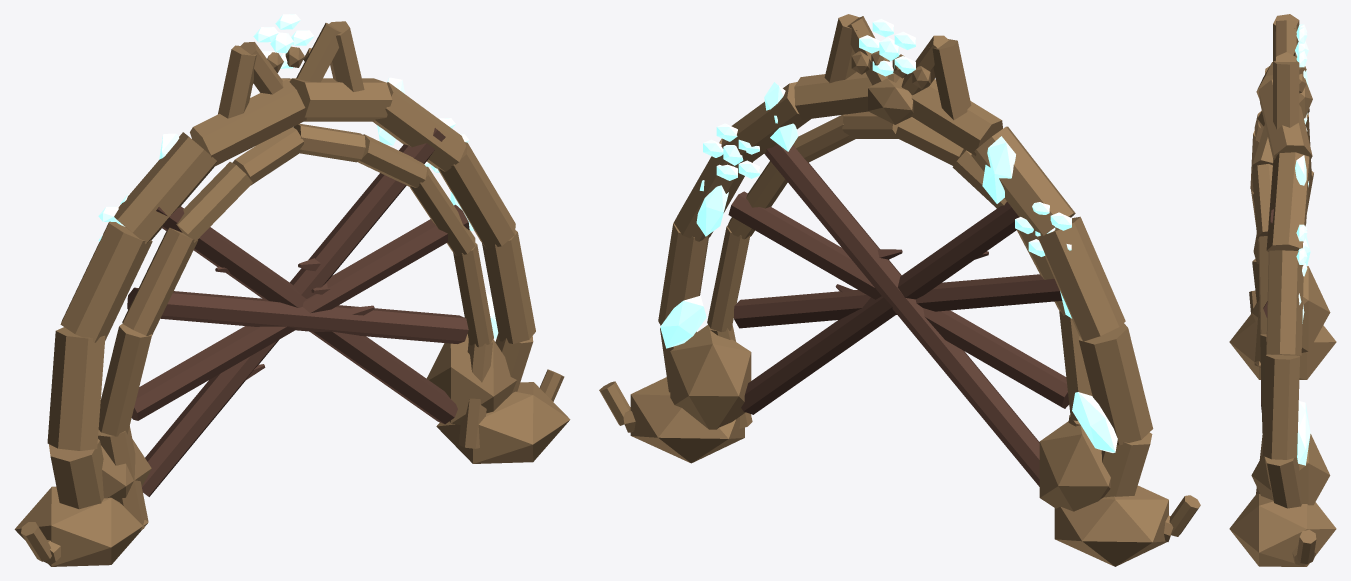
Rendered from forest_trial_gate.glb.
3 views of the same model, side by side, from view 1: azimuth 30°, elevation 25°; view 2: azimuth 150°, elevation 25°; view 3: azimuth 270°, elevation 25° (orthographic). The views are drawn at different scales.
Parts seen in each view (by area): view 1: Gate_Arch, Gate_Shutters, Gate_Bloom; view 2: Gate_Arch, Gate_Shutters, Gate_Bloom; view 3: Gate_Arch, Gate_Bloom.
Boxes of the visible parts, left/top/right/bottom form: Gate_Arch: left=14, top=21, right=570, bottom=566; Gate_Shutters: left=127, top=128, right=469, bottom=496; Gate_Bloom: left=98, top=14, right=498, bottom=338; Gate_Arch: left=599, top=14, right=1200, bottom=566; Gate_Shutters: left=728, top=144, right=1069, bottom=486; Gate_Bloom: left=660, top=19, right=1117, bottom=452; Gate_Arch: left=1229, top=14, right=1336, bottom=566; Gate_Bloom: left=1295, top=24, right=1310, bottom=465.
Size of the model in its own units: 3.77 by 3.07 by 0.68.
